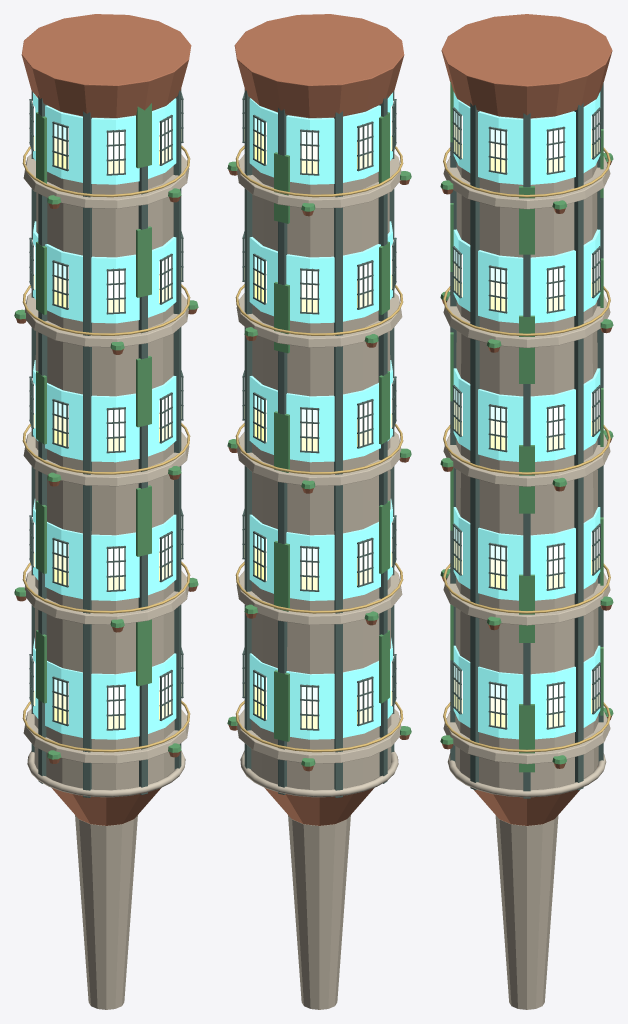
File: w1_conservatory_core.glb
3 views of the same model, side by side, from view 1: azimuth 30°, elevation 25°; view 2: azimuth 150°, elevation 25°; view 3: azimuth 270°, elevation 25° (orthographic).
Visible parts, largest first — view 1: Cornice_0, GlassBand_0, IronRib_0, FlareCollar, IvyCurtain_0_0, BrassRail_0, WinMid_0_0, WinBot_0_0, WinTop_0_0; view 2: Cornice_0, GlassBand_0, IronRib_0, FlareCollar, IvyCurtain_0_0, BrassRail_0, WinMid_0_0, WinBot_0_0, WinTop_0_0; view 3: Cornice_0, GlassBand_0, IronRib_0, FlareCollar, IvyCurtain_0_0, BrassRail_0, WinMid_0_0, WinBot_0_0, WinTop_0_0.
Part boxes in pixels (<box>): Cornice_0: <box>23,112,189,1009</box>; GlassBand_0: <box>33,92,176,739</box>; IronRib_0: <box>29,89,183,797</box>; FlareCollar: <box>16,14,197,825</box>; IvyCurtain_0_0: <box>14,103,198,759</box>; BrassRail_0: <box>22,145,190,752</box>; WinMid_0_0: <box>33,114,181,714</box>; WinBot_0_0: <box>33,129,181,728</box>; WinTop_0_0: <box>32,100,181,699</box>; Cornice_0: <box>236,112,402,1009</box>; GlassBand_0: <box>249,92,392,739</box>; IronRib_0: <box>242,89,396,797</box>; FlareCollar: <box>228,14,409,825</box>; IvyCurtain_0_0: <box>227,112,411,766</box>; BrassRail_0: <box>235,145,403,752</box>; WinMid_0_0: <box>244,114,392,714</box>; WinBot_0_0: <box>244,129,392,728</box>; WinTop_0_0: <box>244,100,393,699</box>; Cornice_0: <box>443,116,610,1009</box>; GlassBand_0: <box>453,92,600,739</box>; IronRib_0: <box>450,82,603,798</box>; FlareCollar: <box>441,14,612,825</box>; IvyCurtain_0_0: <box>440,81,613,772</box>; BrassRail_0: <box>443,147,610,752</box>; WinMid_0_0: <box>454,125,599,713</box>; WinBot_0_0: <box>454,140,599,727</box>; WinTop_0_0: <box>454,111,599,698</box>.
Size of the model in its own units: 33.94 by 206 by 33.94.
